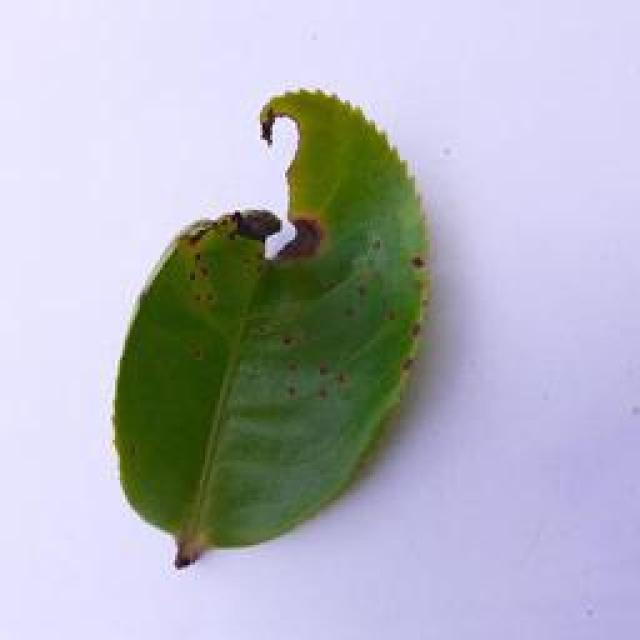Helopeltis: (130, 70, 434, 575)
